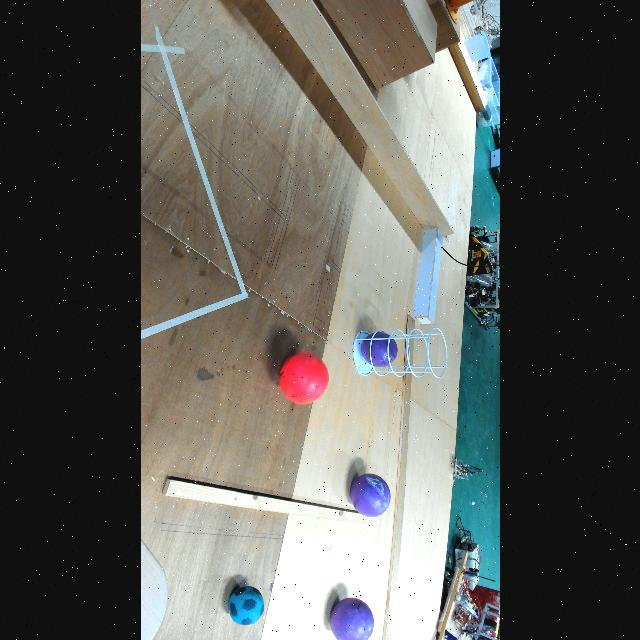P: (328, 596, 374, 640), (349, 472, 391, 518), (360, 332, 398, 368)
R: (278, 351, 328, 405)
S: (352, 326, 448, 379)
